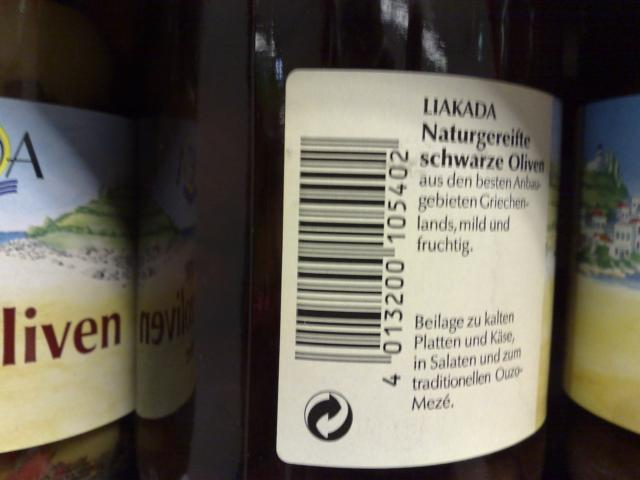Barkod: (294, 135, 384, 364)
